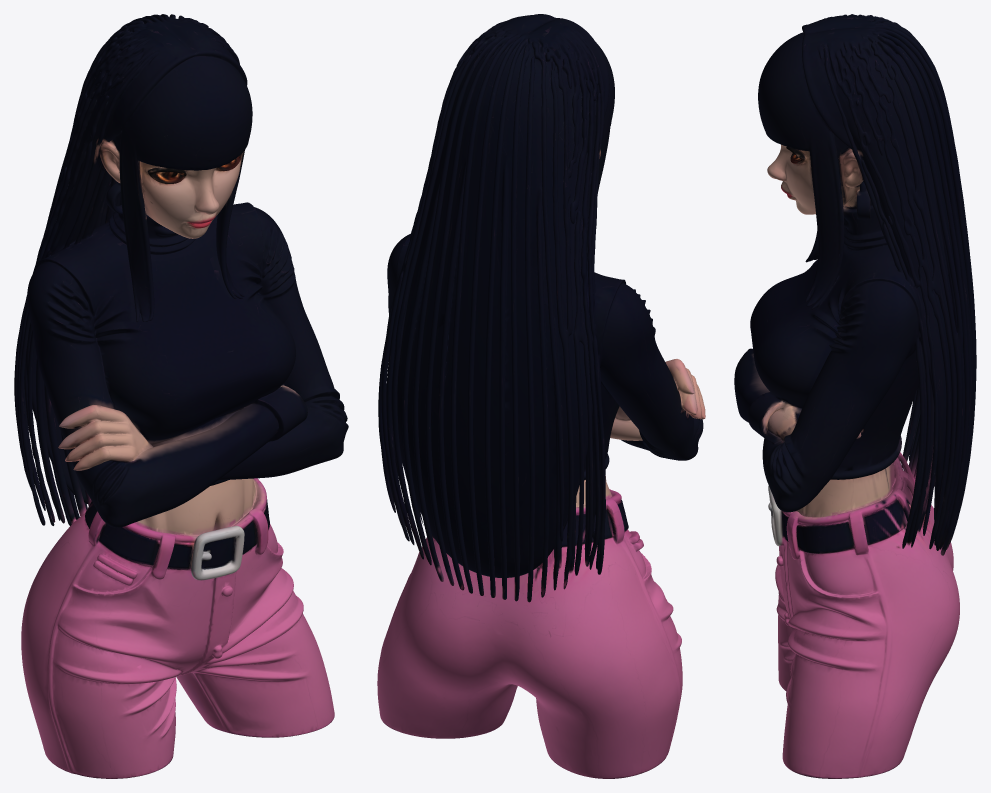
The model's file is girl.glb.
3 renders of one model, left to right at view 1: azimuth 30°, elevation 25°; view 2: azimuth 150°, elevation 25°; view 3: azimuth 270°, elevation 25°, orthographic. The views are drawn at different scales.
Visible parts, largest first — view 1: texture_pbr_v128_0; view 2: texture_pbr_v128_0; view 3: texture_pbr_v128_0.
Boxes of the visible parts, bbox=[...] form: texture_pbr_v128_0: bbox=[14, 14, 348, 778]; texture_pbr_v128_0: bbox=[377, 14, 705, 778]; texture_pbr_v128_0: bbox=[734, 14, 976, 778].
Bounding box in the file's own units: 0.4672 × 1.11 × 0.355.
Materials: 1 (1 with a texture image).
